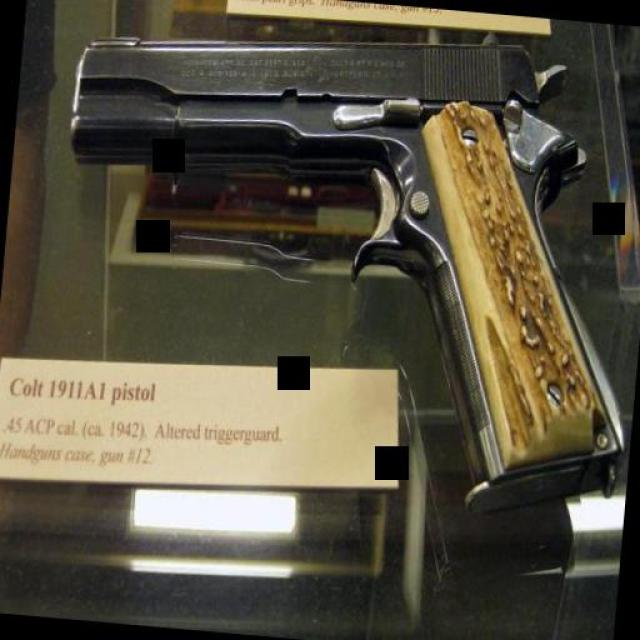gun: (31, 0, 640, 532)
